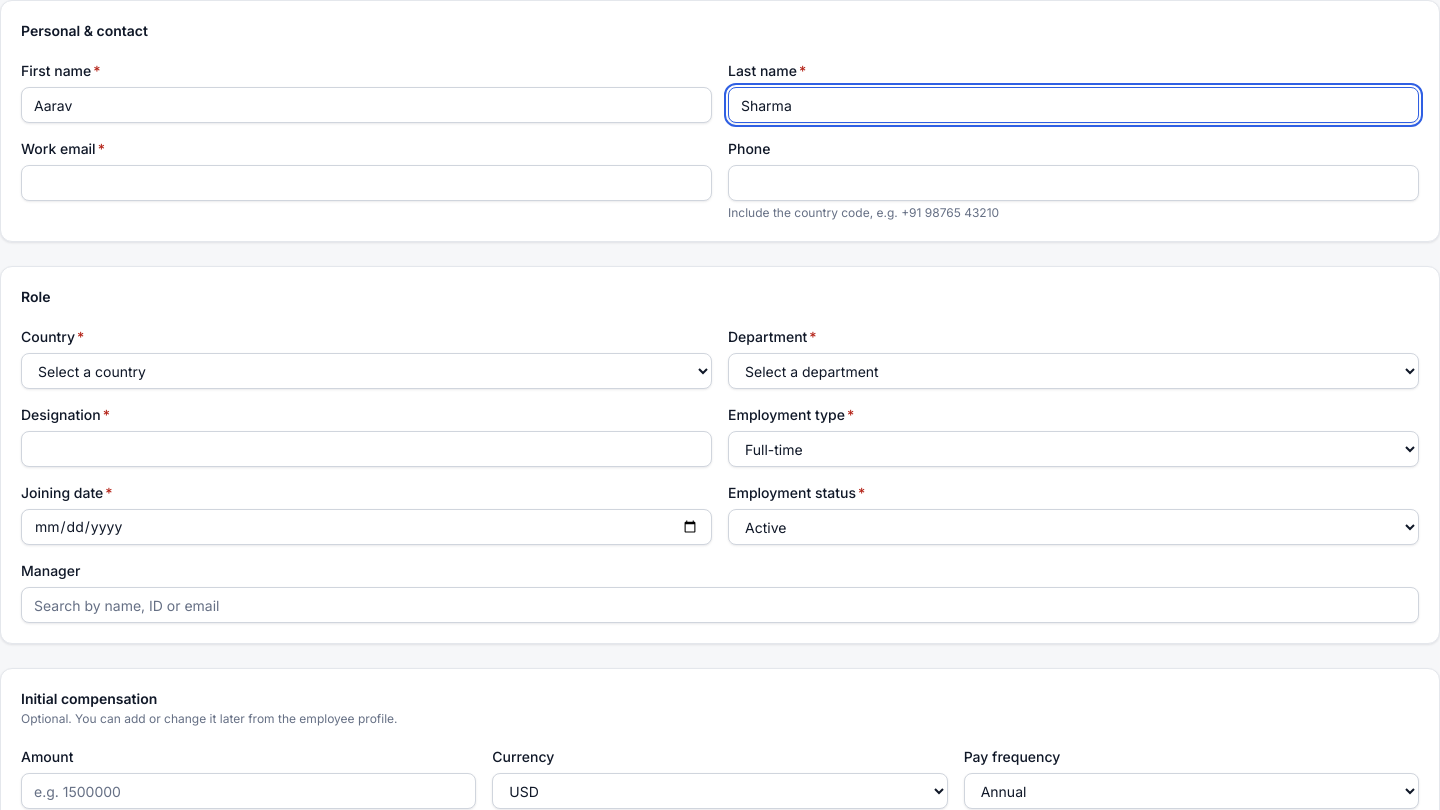
Test: EmployeeForm validation › maps a server 'email already exists' error onto the email field
Earlier steps of the test are not shown.
Type "aarav@acme-demo.com" into the field labelled "Work email*" at (366, 183), box [21,165,712,201]
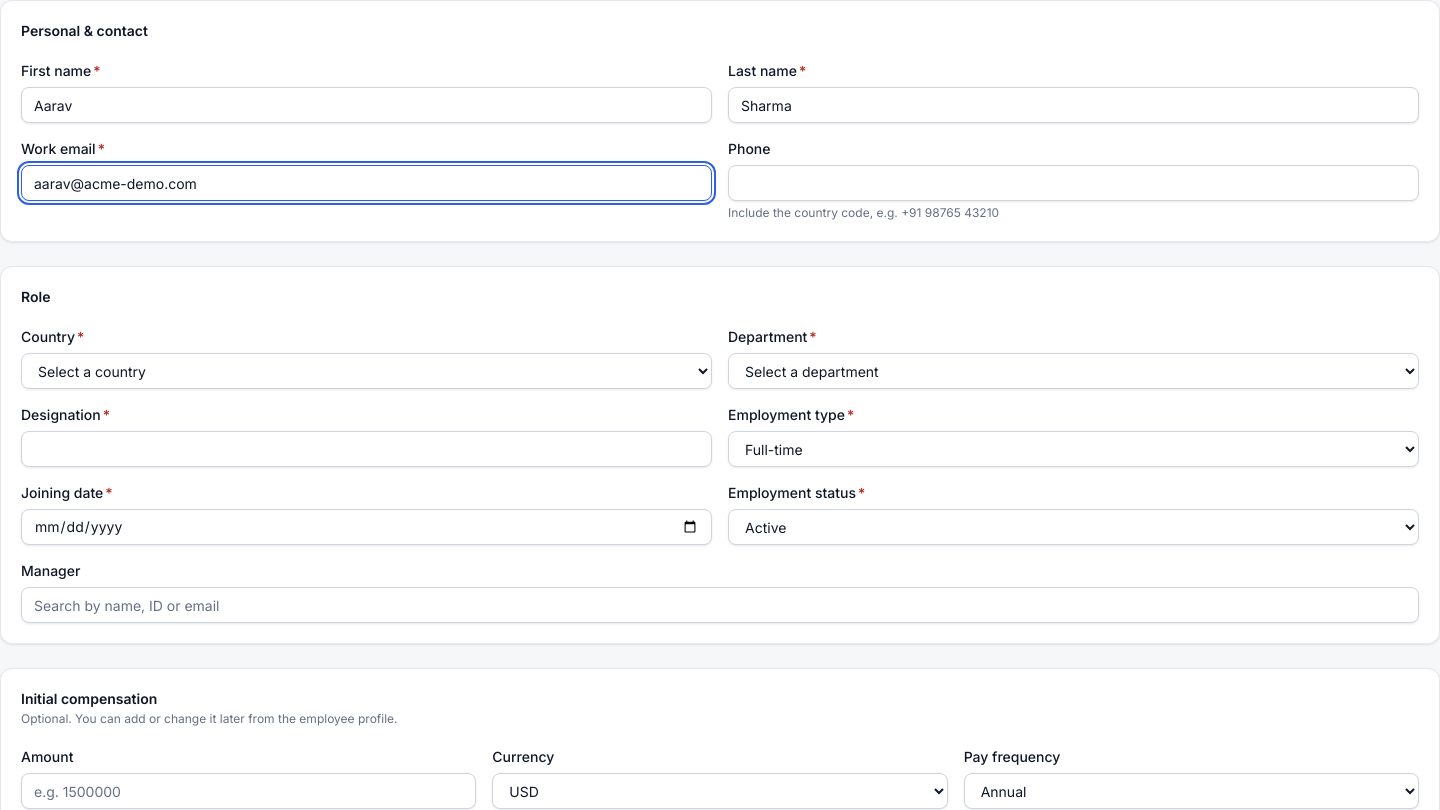
Select "India" in the dropdown labelled "Country*" at (366, 371), box [21,353,712,389]
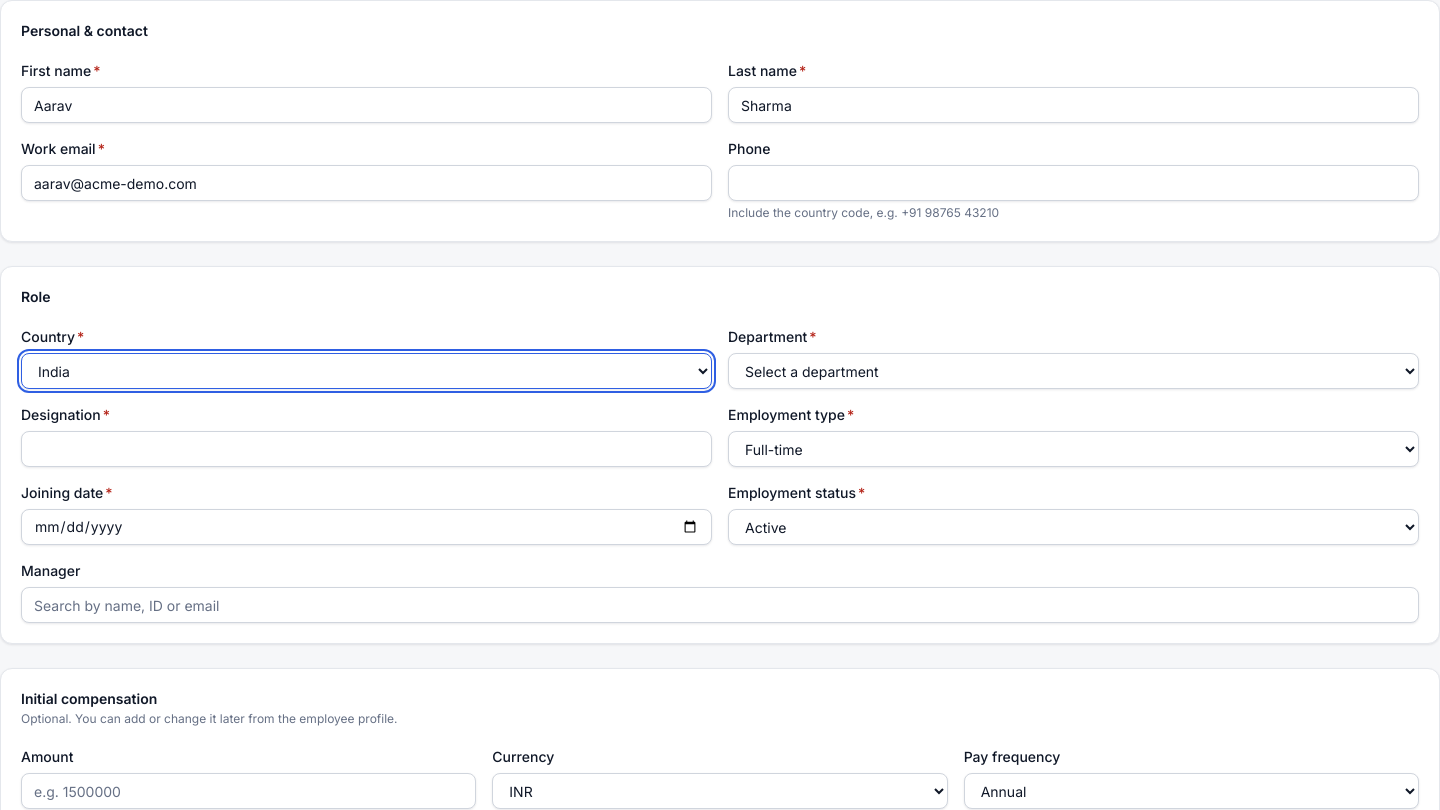
Select "Engineering" in the dropdown labelled "Department*" at (1074, 371), box [728,353,1419,389]
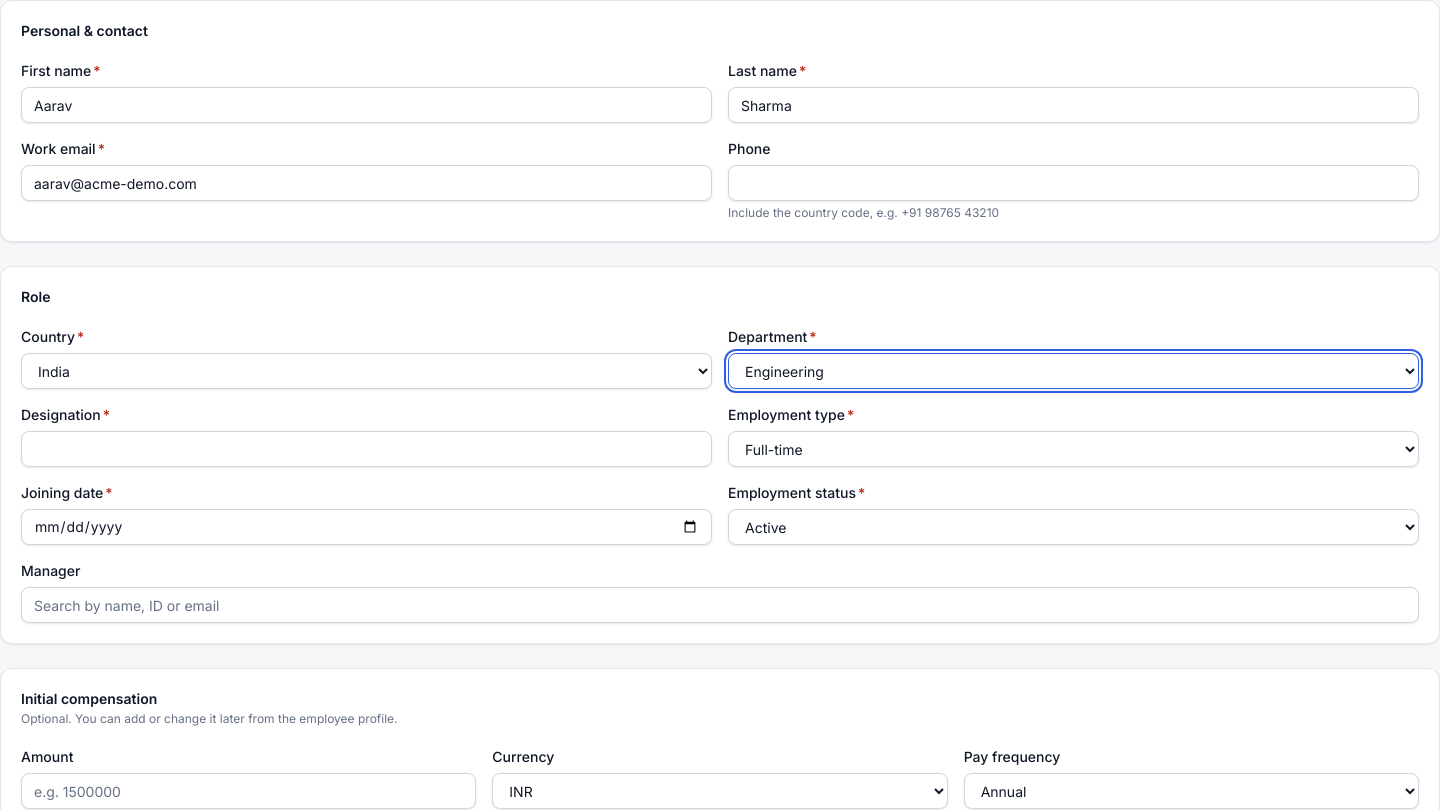
Type "Software Engineer" into the field labelled "Designation*" at (366, 449), box [21,431,712,467]
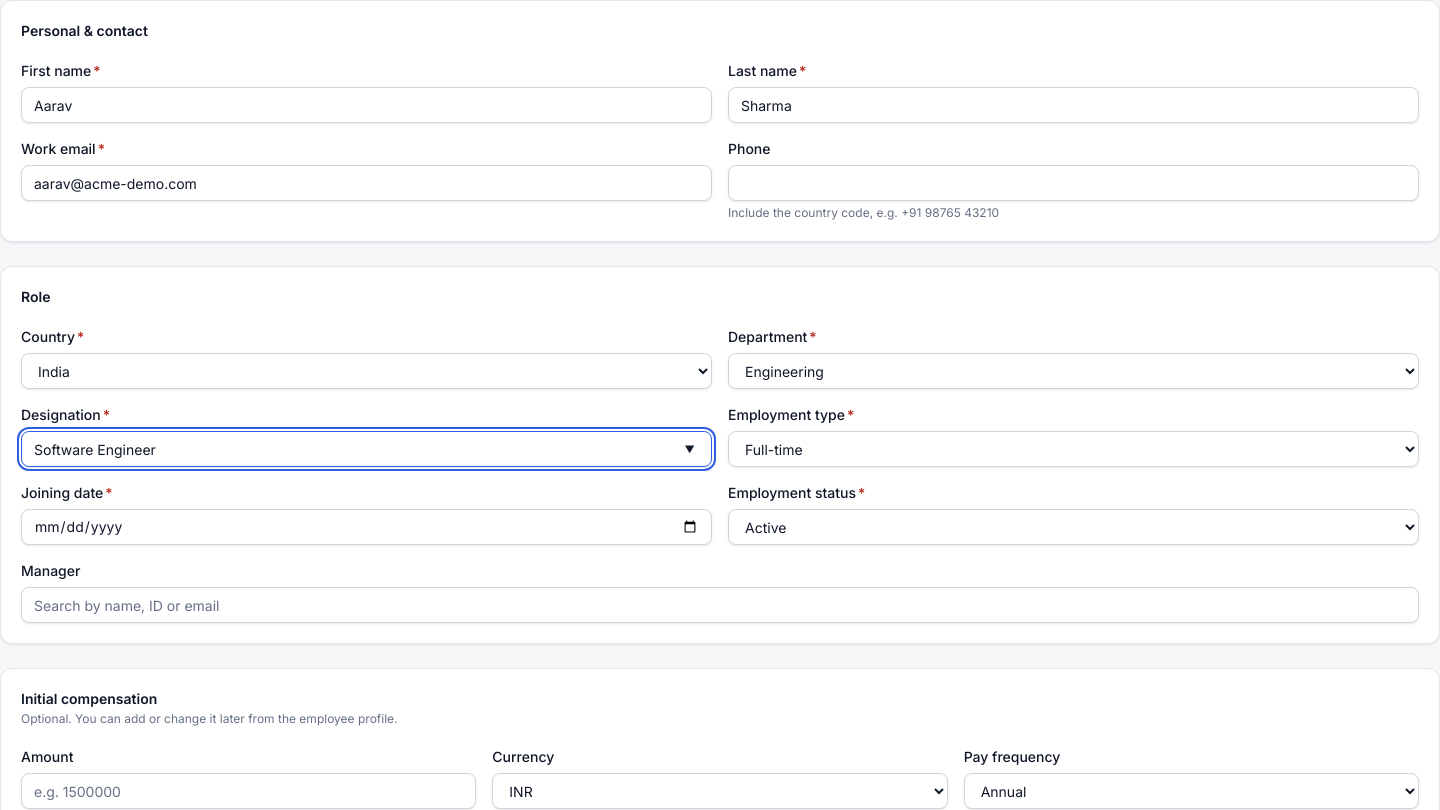
Type "2024-02-01" into the date field labelled "Joining date*" at (366, 527), box [21,509,712,545]
(page scrolled)
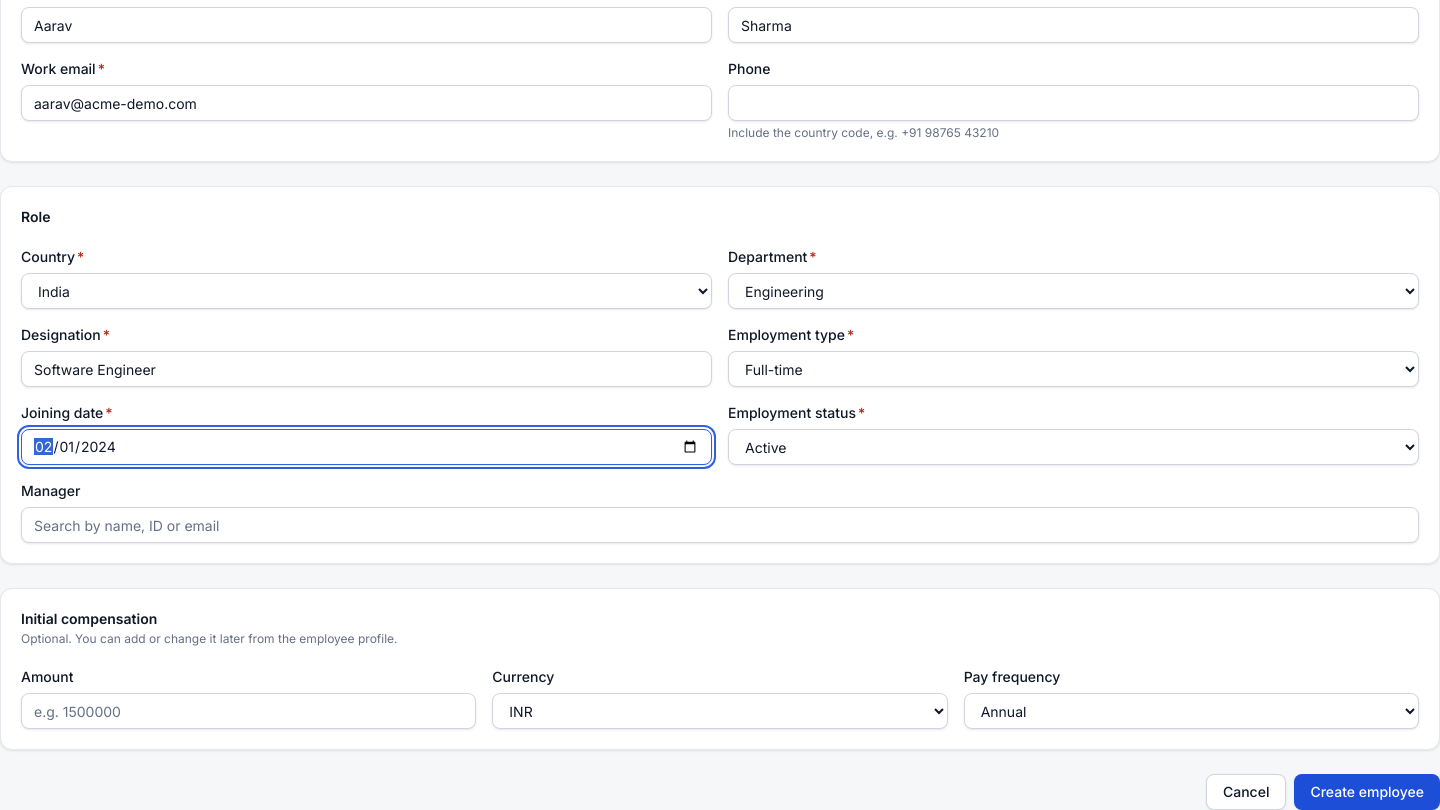
Click the button "Create employee" at (1367, 792), box [1294,774,1439,809]
(page scrolled)
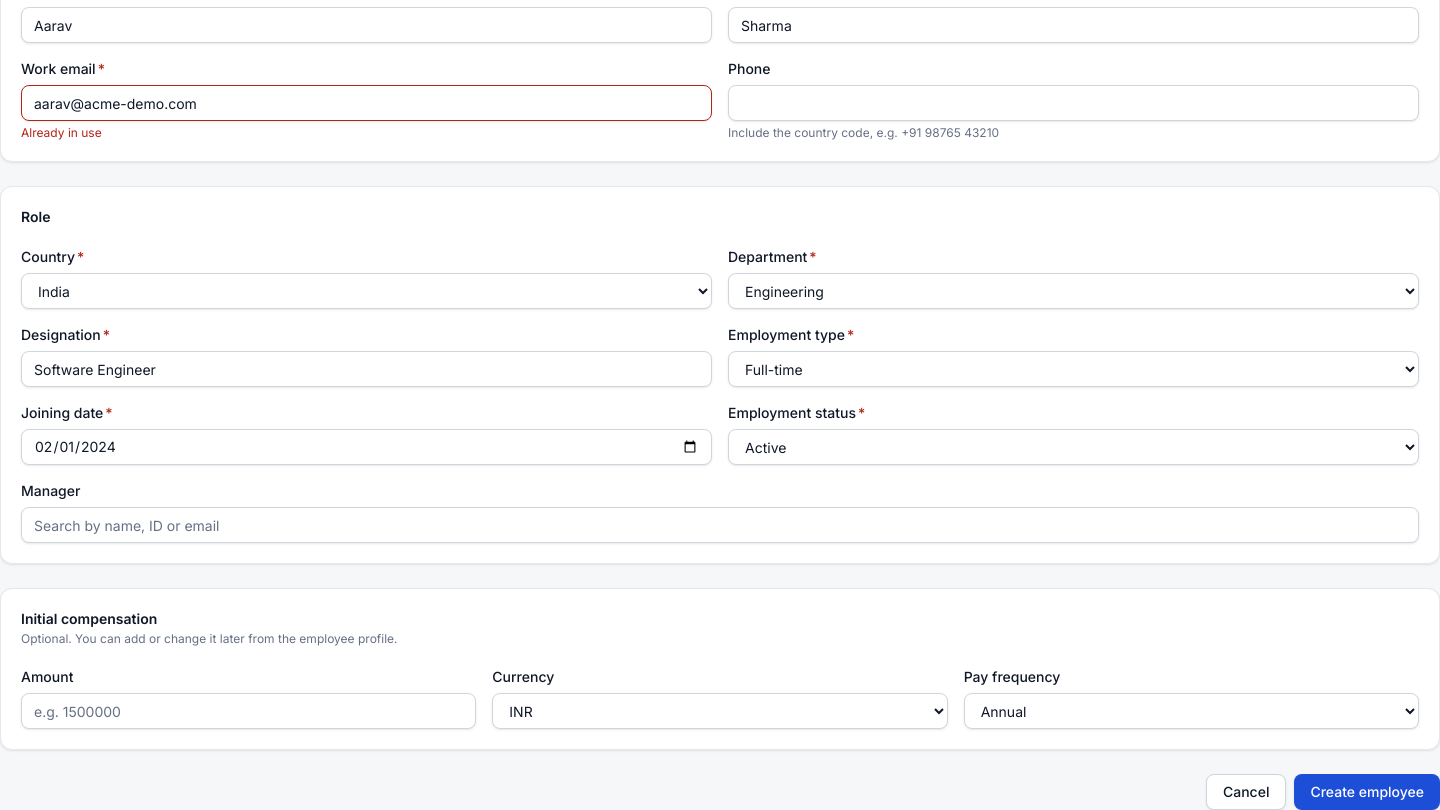
Now the text "Already in use" is shown, box [21,125,102,140]
